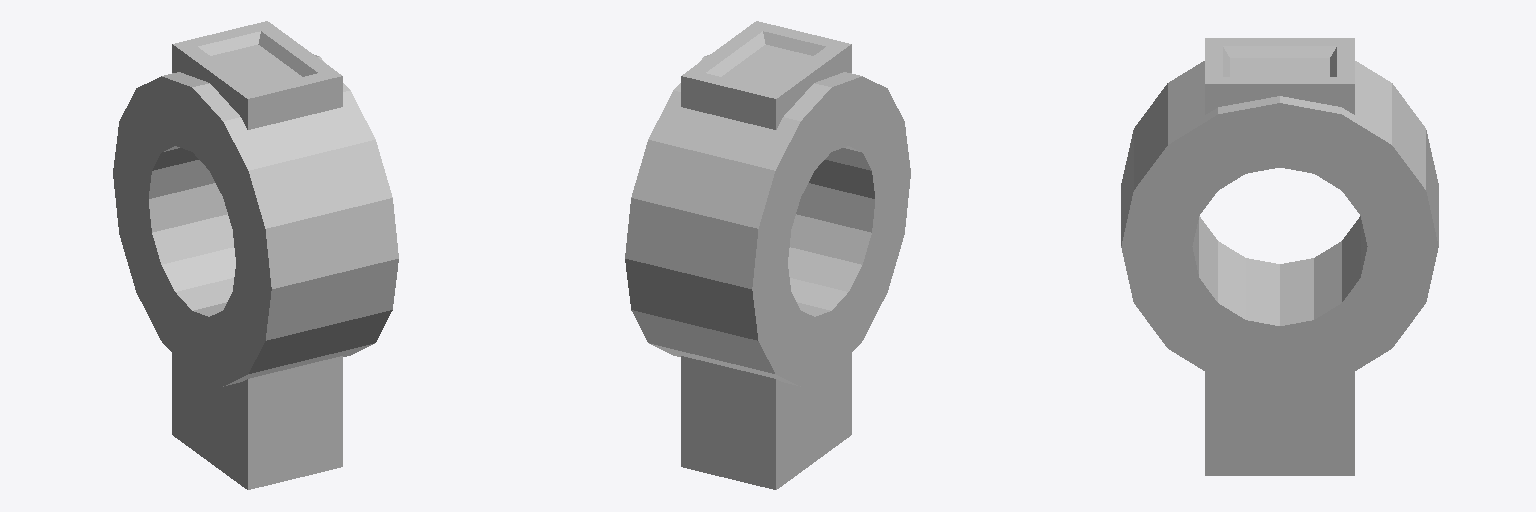
File: 避雷器传感器.obj
The picture shows the model from 3 angles: view 1: azimuth 30°, elevation 25°; view 2: azimuth 150°, elevation 25°; view 3: azimuth 270°, elevation 25°; orthographic projection.
Visible parts, largest first — view 1: Donut001; view 2: Donut001; view 3: Donut001.
Boxes of the visible parts, x1=… form: Donut001: x1=113, y1=21, x2=398, y2=489; Donut001: x1=625, y1=21, x2=910, y2=489; Donut001: x1=1121, y1=38, x2=1438, y2=475.
Bounding box in the file's own units: 19.75 × 57.97 × 42.66.